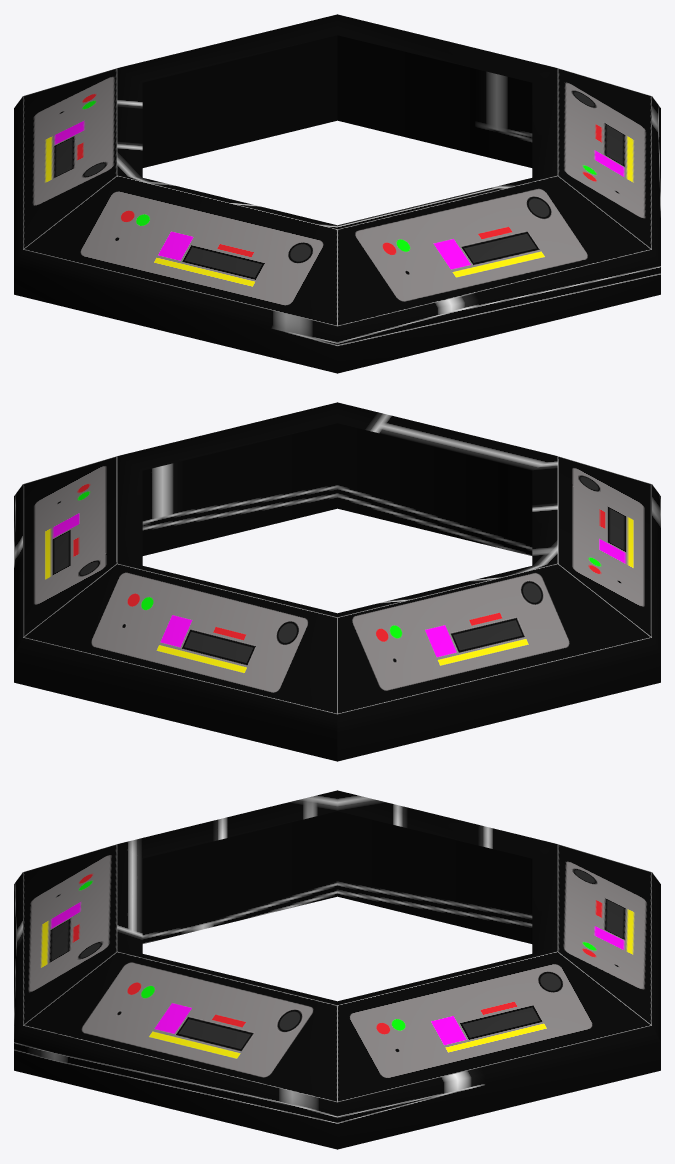
The model's file is Console_Textured.fbx.
3 views of the same model, one above another, from view 1: azimuth 30°, elevation 25°; view 2: azimuth 150°, elevation 25°; view 3: azimuth 270°, elevation 25° (orthographic).
Parts seen in each view (by area): view 1: pTorus1; view 2: pTorus1; view 3: pTorus1.
Boxes of the visible parts, box(x1,y1,x2,y2) form: pTorus1: box(14, 14, 660, 373); pTorus1: box(14, 402, 660, 761); pTorus1: box(14, 790, 660, 1149).
Size of the model in its own units: 4.21 by 0.5841 by 3.65.
